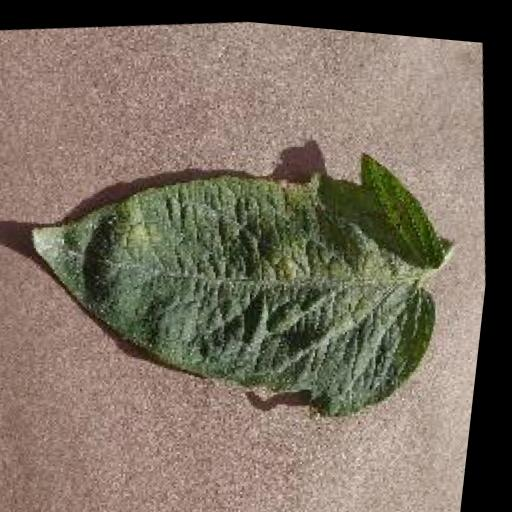Spider Mites: (6, 112, 478, 459)
